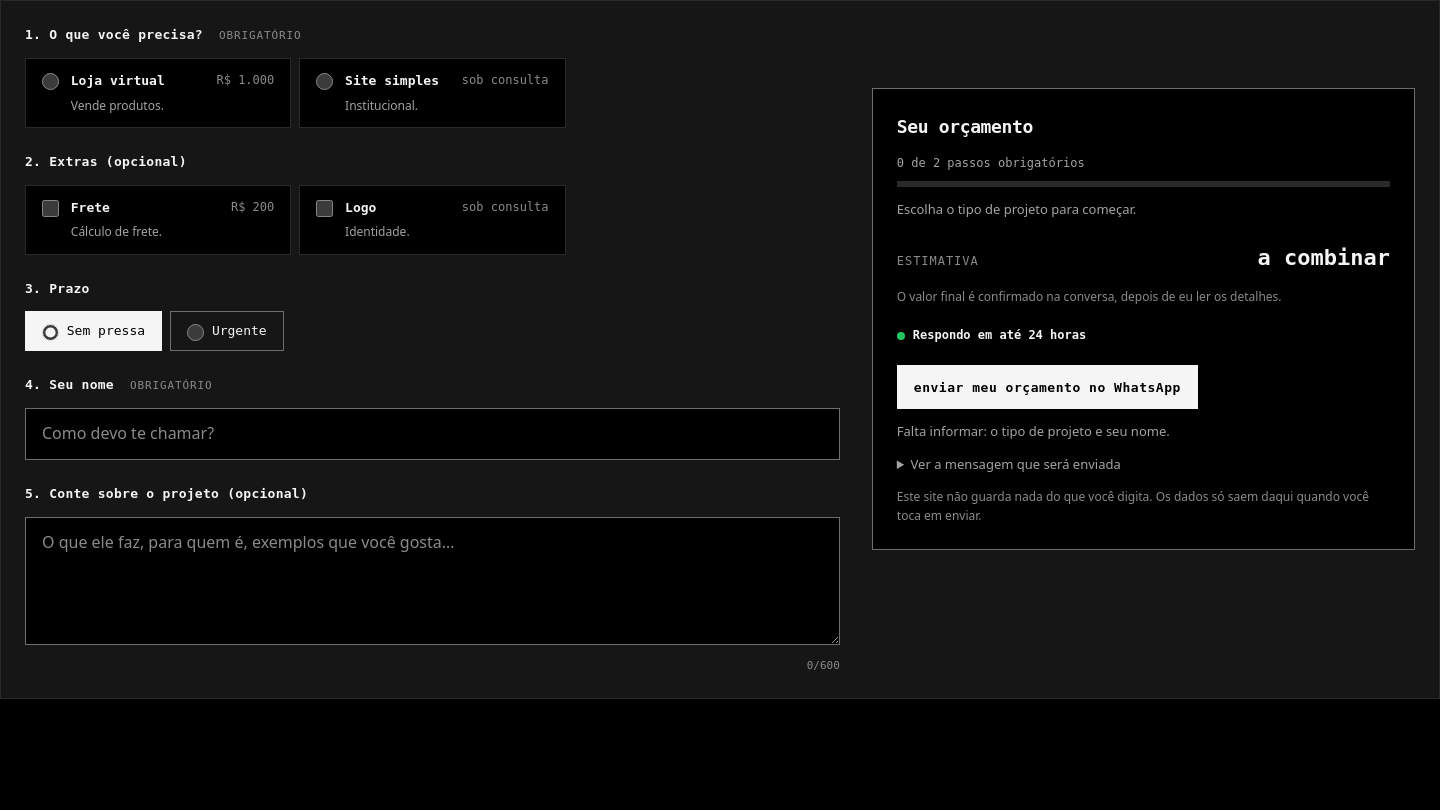
Test: QuotePanel › mostra o progresso e avisa quando está pronto para enviar
The image size is (1440, 810).
Click the radio button labelled "Loja virtual Vende produtos. R$ 1.000": (50, 82) x1=42 y1=73 x2=59 y2=90
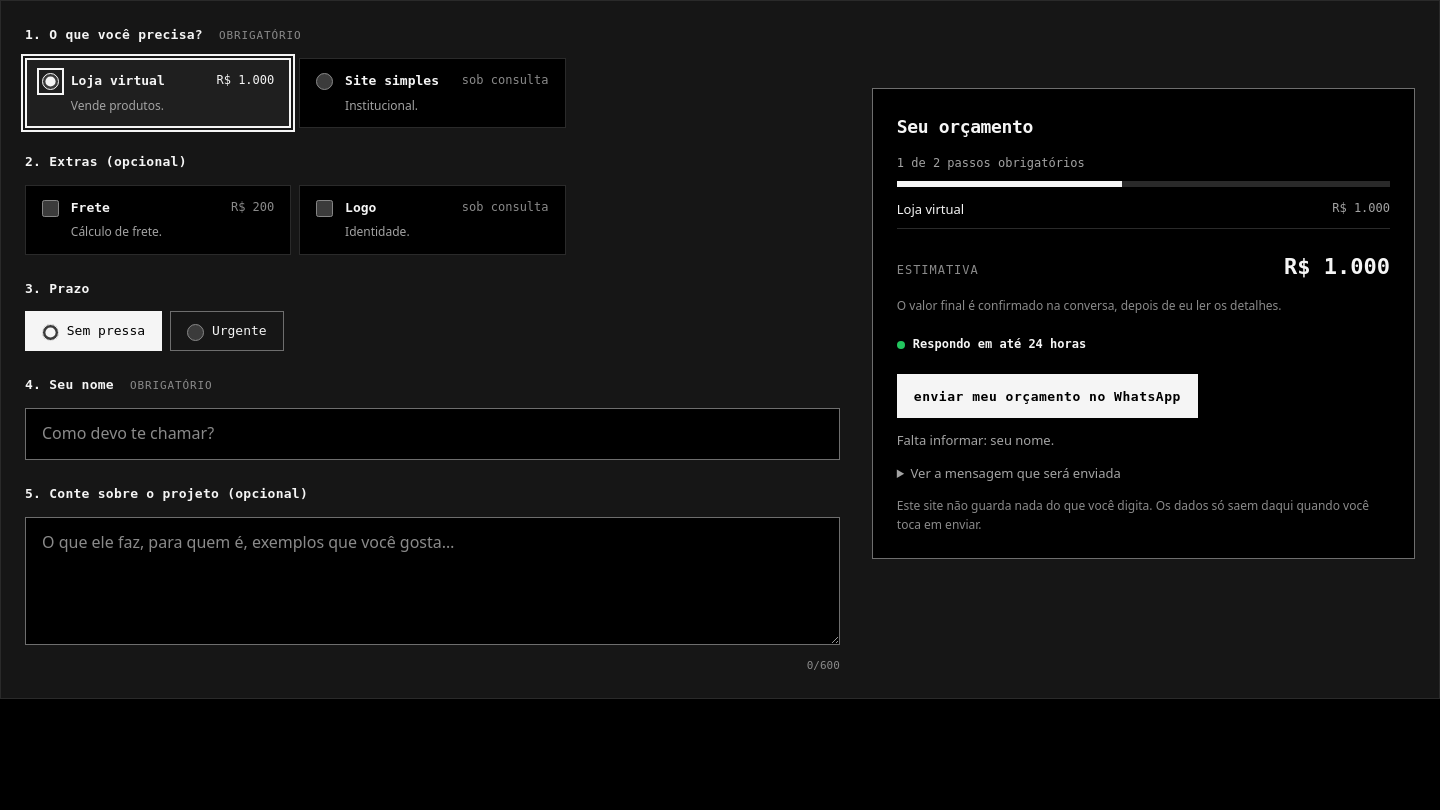
Result: the text "1 de 2 passos obrigatórios" is shown at x1=897 y1=156 x2=1085 y2=170
In the field labelled "4. Seu nome obrigatório": (432, 434) x1=25 y1=408 x2=840 y2=460, type "Joana"
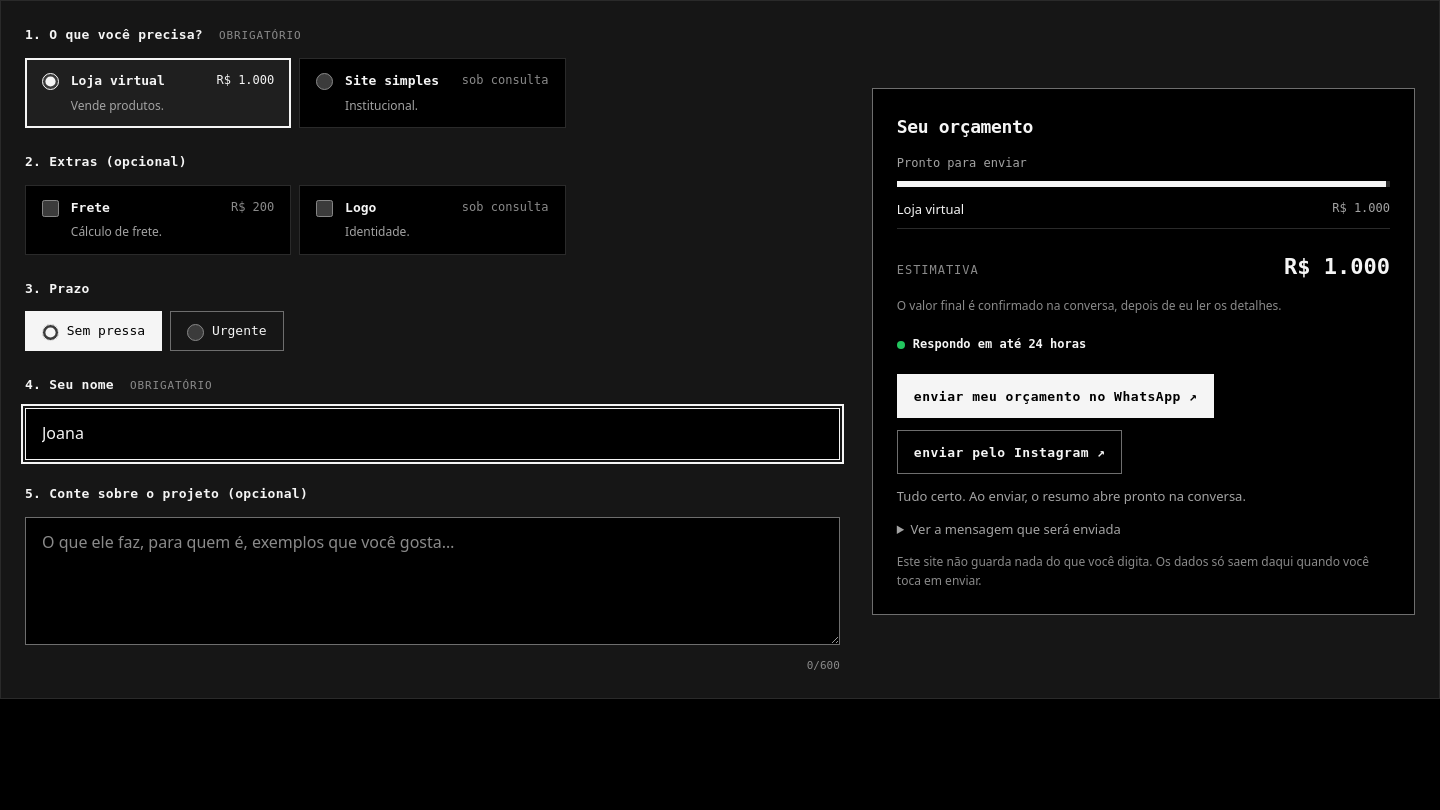
Result: the text "Pronto para enviar" is shown at x1=897 y1=156 x2=1027 y2=170
